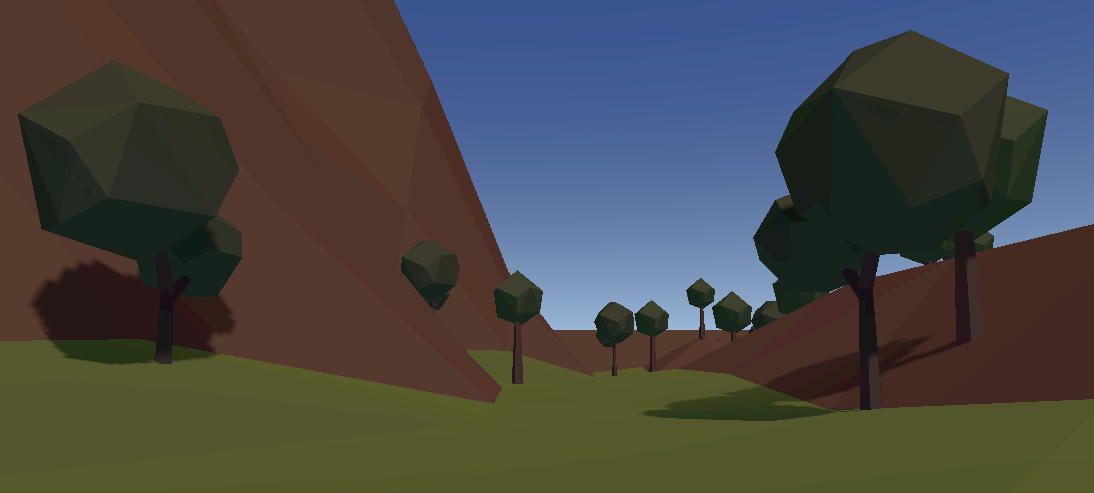tree: (752, 30, 1010, 409), (15, 59, 245, 365), (934, 89, 1061, 337), (494, 270, 544, 382), (397, 236, 469, 309), (591, 298, 635, 377), (635, 299, 674, 371), (711, 290, 756, 345), (686, 276, 716, 335)
